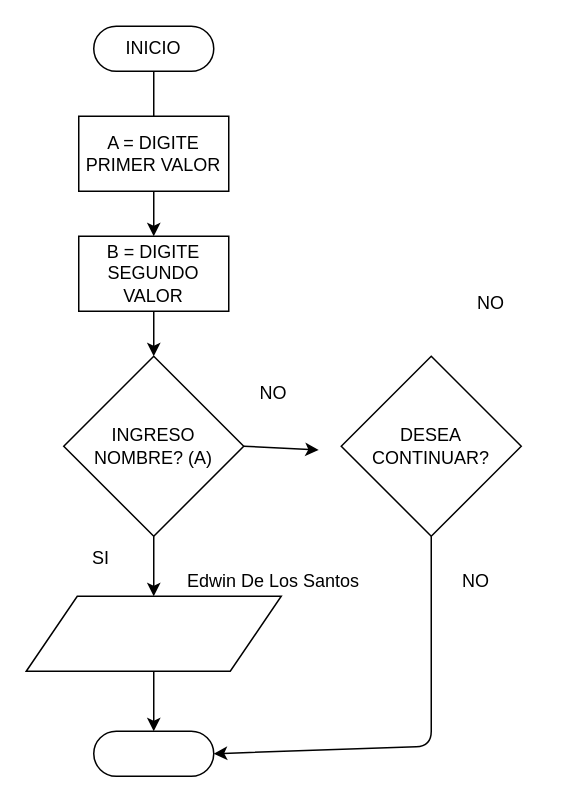
The diagram is 563 pixels wide and 803 high, and some of its shapes have lost their labels. The centre of each missing label's shape, as x and y in pixels:
"FIN" belongs at pixel 153 753.
"SALUDOS (A)" belongs at pixel 153 633.
